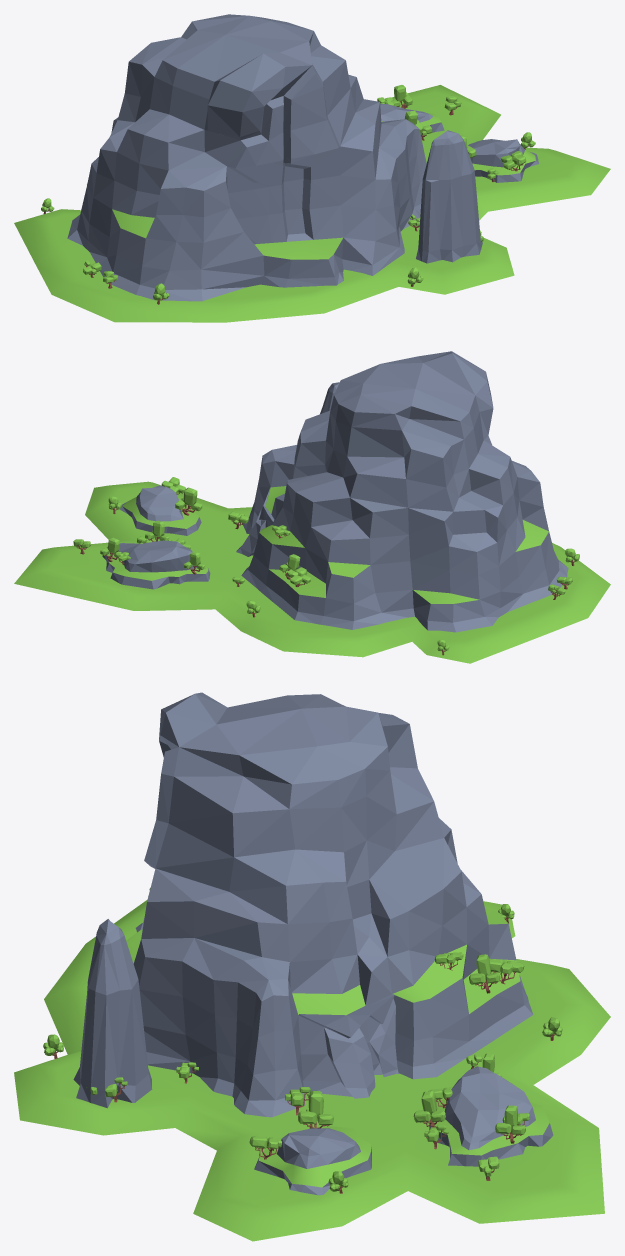
File: geostructures_no10.fbx
3 renders of one model, top to bottom at view 1: azimuth 30°, elevation 25°; view 2: azimuth 150°, elevation 25°; view 3: azimuth 270°, elevation 25°, orthographic. The views are drawn at different scales.
Parts seen in each view (by area): view 1: landform_10shrubbed:geology, landform_10shrubbed:shrubs; view 2: landform_10shrubbed:geology, landform_10shrubbed:shrubs; view 3: landform_10shrubbed:geology, landform_10shrubbed:shrubs.
Boxes of the visible parts, x1=… form: landform_10shrubbed:geology: x1=14, y1=14, x2=610, y2=322; landform_10shrubbed:shrubs: x1=41, y1=85, x2=535, y2=304; landform_10shrubbed:geology: x1=14, y1=351, x2=610, y2=663; landform_10shrubbed:shrubs: x1=73, y1=477, x2=579, y2=655; landform_10shrubbed:geology: x1=14, y1=692, x2=610, y2=1241; landform_10shrubbed:shrubs: x1=43, y1=888, x2=562, y2=1193.
Size of the model in its own units: 62930 by 24214 by 43400.
